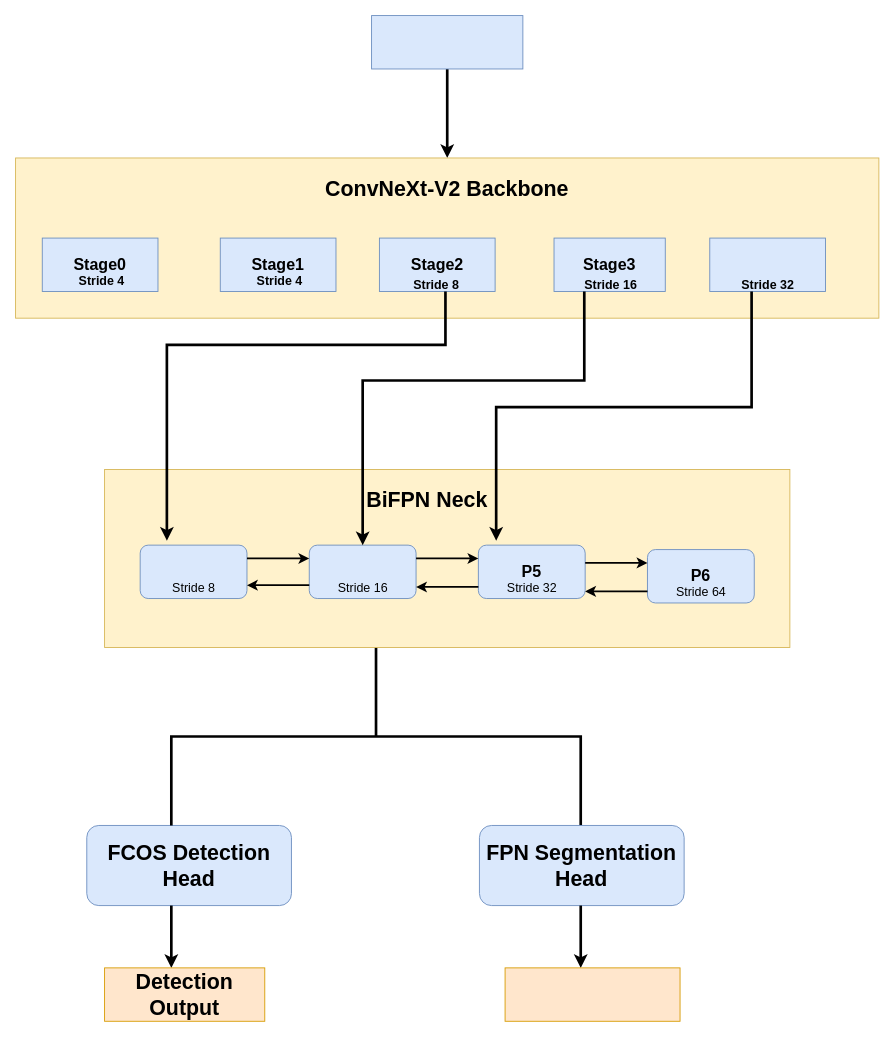
Image size: 894x1037. Some labels were removed from this diagram. The shapes that lost their labels are listed below. From the top down, each one's box as (x1, y1, x2, y2) in pixels, then its label:
(371, 15, 523, 69): Input Image
(709, 237, 825, 291): Stage4
(139, 544, 247, 599): P3
(308, 544, 416, 599): P4
(504, 967, 680, 1021): Segmentation Output
